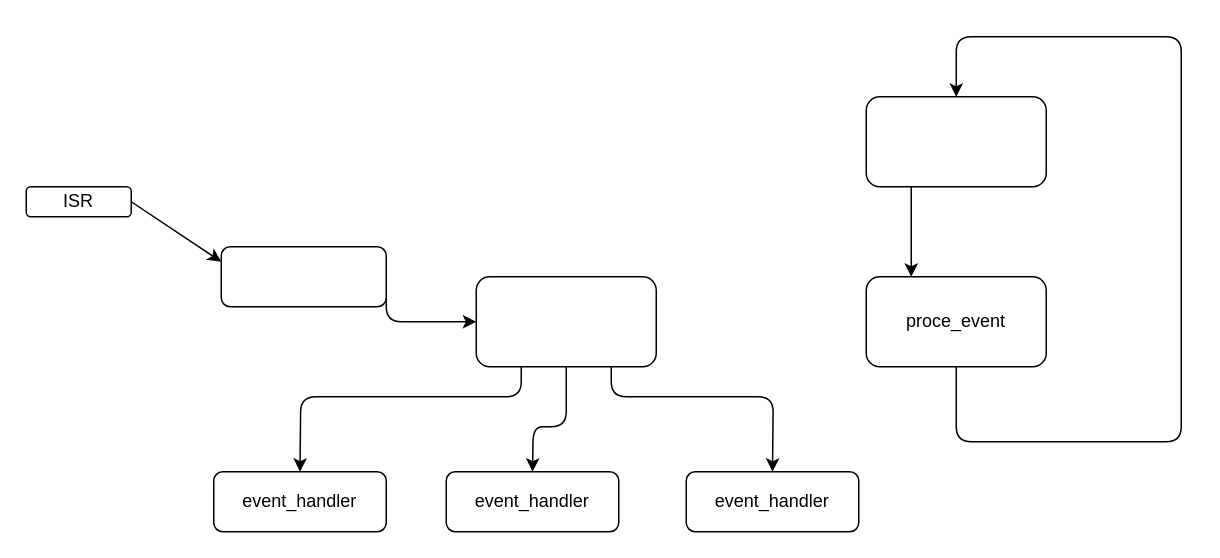
Some shapes in this 1220 by 558 pixel diagram are drawn without their labels. The shapes that lost their labels are listed below. From the top down, each one's centre as x and y in pixels, then its label:
At point 955,141: "wait_event".
At point 303,276: "queue".
At point 565,321: "event dispatcher".
